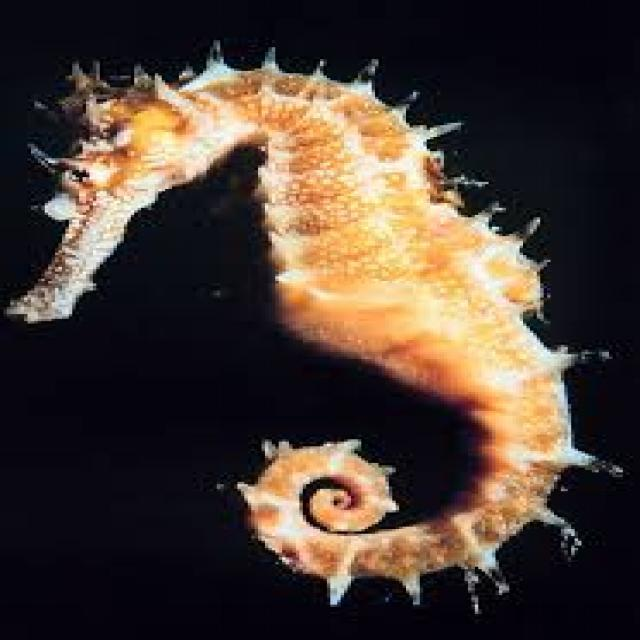SeaHorse: (3, 54, 596, 607)
